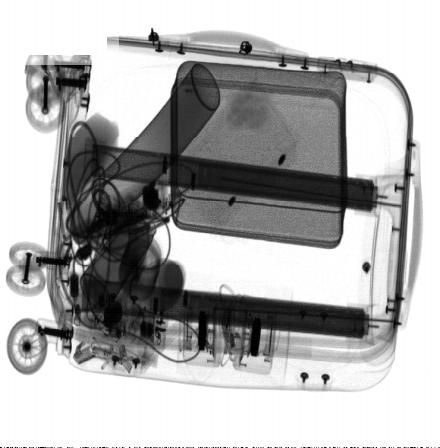Sprayer: (73, 64, 220, 241)
